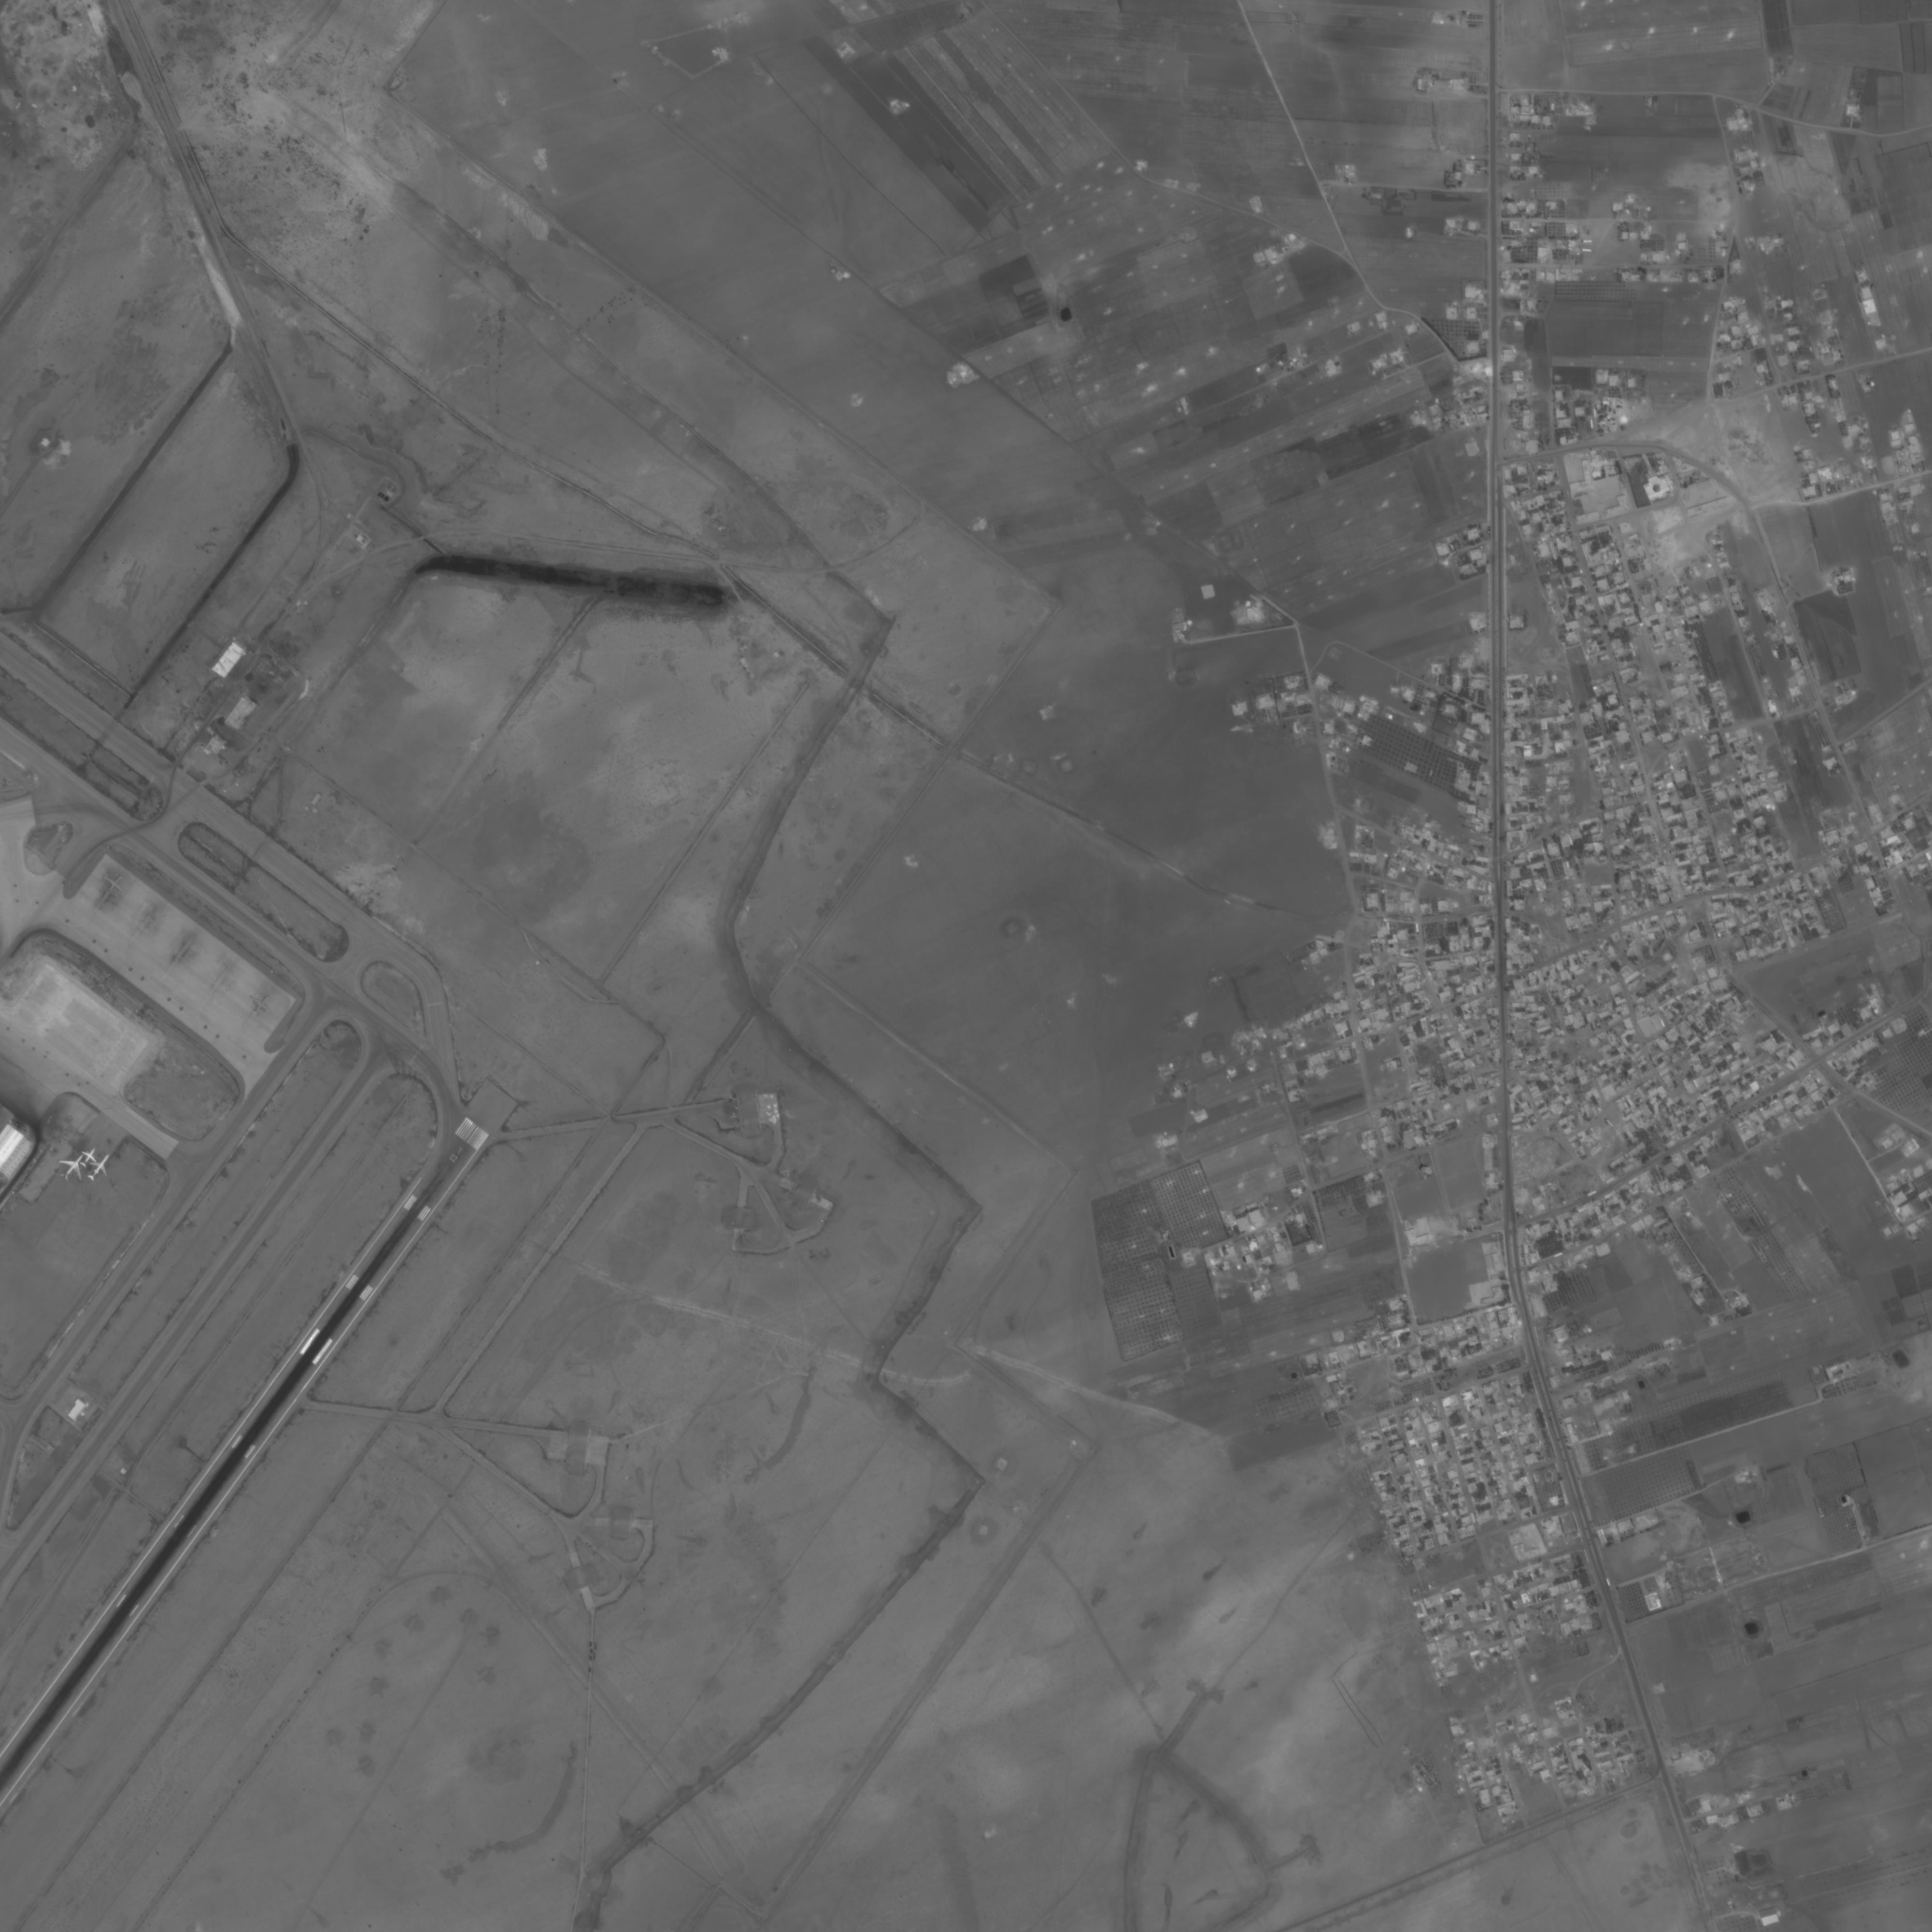plane: (51, 1146, 94, 1189), (81, 1150, 117, 1187), (99, 869, 129, 899), (246, 989, 276, 1017), (76, 1143, 103, 1171)
